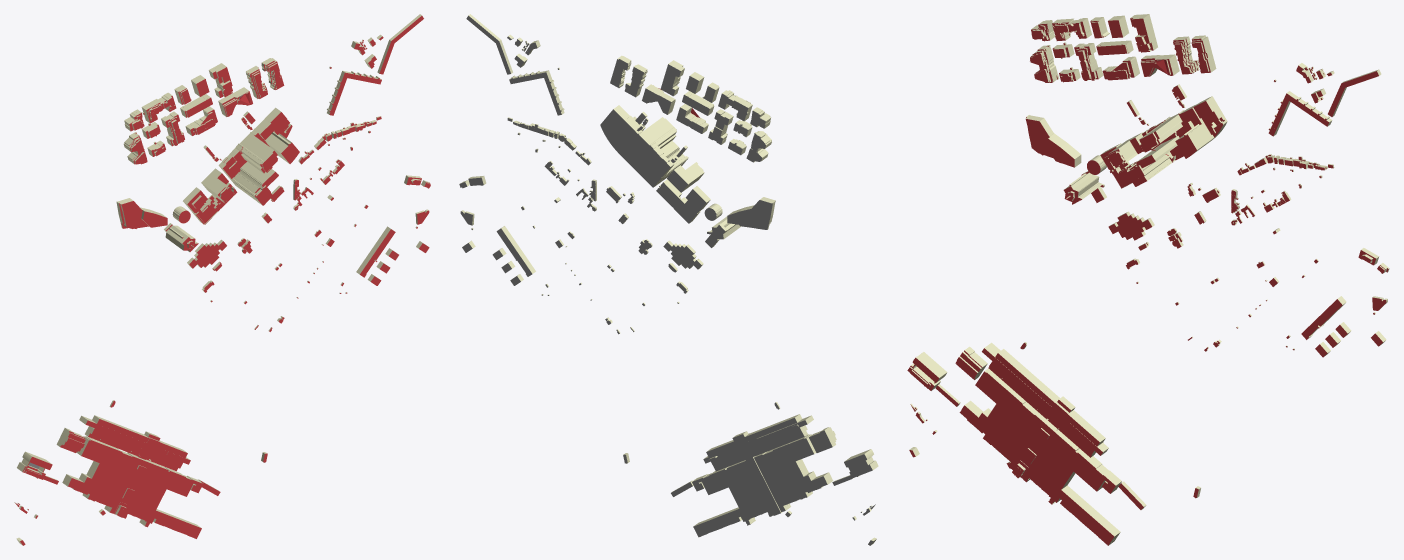
3 renders of one model, left to right at view 1: azimuth 30°, elevation 25°; view 2: azimuth 150°, elevation 25°; view 3: azimuth 330°, elevation 25°, orthographic. The views are drawn at different scales.
Parts seen in each view (by area): view 1: NL.IMBAG.Pand.0363100012185598-19, NL.IMBAG.Pand.0363100012247366-101, NL.IMBAG.Pand.0363100012242112-16, NL.IMBAG.Pand.0363100012237838-25, NL.IMBAG.Pand.0363100012112766-24, NL.IMBAG.Pand.0363100012250610-98, NL.IMBAG.Pand.0363100012240311-17, NL.IMBAG.Pand.0363100012245546-35, NL.IMBAG.Pand.0363100012119827-28, NL.IMBAG.Pand.0363100012178504-7, NL.IMBAG.Pand.0363100012098377-61, NL.IMBAG.Pand.0363100012252987-110 (+4 smaller); view 2: NL.IMBAG.Pand.0363100012185598-19, NL.IMBAG.Pand.0363100012247366-101, NL.IMBAG.Pand.0363100012242112-16, NL.IMBAG.Pand.0363100012112766-24, NL.IMBAG.Pand.0363100012240311-17, NL.IMBAG.Pand.0363100012237838-25, NL.IMBAG.Pand.0363100012245546-35, NL.IMBAG.Pand.0363100012119827-28, NL.IMBAG.Pand.0363100012178504-7, NL.IMBAG.Pand.0363100012098377-61, NL.IMBAG.Pand.0363100012250610-98, NL.IMBAG.Pand.0363100012252987-111 (+4 smaller); view 3: NL.IMBAG.Pand.0363100012185598-19, NL.IMBAG.Pand.0363100012242112-16, NL.IMBAG.Pand.0363100012247366-101, NL.IMBAG.Pand.0363100012237838-25, NL.IMBAG.Pand.0363100012240311-17, NL.IMBAG.Pand.0363100012250610-98, NL.IMBAG.Pand.0363100012071204-26, NL.IMBAG.Pand.0363100012178504-7, NL.IMBAG.Pand.0363100012119827-28, NL.IMBAG.Pand.0363100012249044-97, NL.IMBAG.Pand.0363100012252987-111, NL.IMBAG.Pand.0363100012252987-110 (+5 smaller).
Part boxes in pixels (bbox=[...]): NL.IMBAG.Pand.0363100012185598-19: bbox=[62, 436, 203, 538]; NL.IMBAG.Pand.0363100012247366-101: bbox=[218, 130, 278, 205]; NL.IMBAG.Pand.0363100012242112-16: bbox=[85, 415, 187, 471]; NL.IMBAG.Pand.0363100012237838-25: bbox=[116, 198, 167, 228]; NL.IMBAG.Pand.0363100012112766-24: bbox=[183, 182, 237, 224]; NL.IMBAG.Pand.0363100012250610-98: bbox=[254, 119, 299, 163]; NL.IMBAG.Pand.0363100012240311-17: bbox=[114, 431, 167, 517]; NL.IMBAG.Pand.0363100012245546-35: bbox=[201, 168, 235, 203]; NL.IMBAG.Pand.0363100012119827-28: bbox=[187, 239, 226, 268]; NL.IMBAG.Pand.0363100012178504-7: bbox=[17, 451, 52, 479]; NL.IMBAG.Pand.0363100012098377-61: bbox=[356, 226, 395, 277]; NL.IMBAG.Pand.0363100012252987-110: bbox=[218, 87, 252, 116]; NL.IMBAG.Pand.0363100012185598-19: bbox=[692, 434, 833, 537]; NL.IMBAG.Pand.0363100012247366-101: bbox=[618, 117, 688, 187]; NL.IMBAG.Pand.0363100012242112-16: bbox=[706, 414, 807, 471]; NL.IMBAG.Pand.0363100012112766-24: bbox=[656, 179, 710, 223]; NL.IMBAG.Pand.0363100012240311-17: bbox=[726, 431, 782, 515]; NL.IMBAG.Pand.0363100012237838-25: bbox=[727, 197, 775, 229]; NL.IMBAG.Pand.0363100012245546-35: bbox=[667, 162, 704, 192]; NL.IMBAG.Pand.0363100012119827-28: bbox=[663, 240, 703, 269]; NL.IMBAG.Pand.0363100012178504-7: bbox=[844, 449, 878, 478]; NL.IMBAG.Pand.0363100012098377-61: bbox=[496, 226, 535, 276]; NL.IMBAG.Pand.0363100012250610-98: bbox=[608, 115, 645, 151]; NL.IMBAG.Pand.0363100012252987-111: bbox=[660, 60, 684, 96]; NL.IMBAG.Pand.0363100012185598-19: bbox=[959, 368, 1121, 545]; NL.IMBAG.Pand.0363100012242112-16: bbox=[988, 349, 1105, 457]; NL.IMBAG.Pand.0363100012247366-101: bbox=[1126, 110, 1191, 186]; NL.IMBAG.Pand.0363100012237838-25: bbox=[1025, 115, 1081, 167]; NL.IMBAG.Pand.0363100012240311-17: bbox=[1012, 396, 1076, 478]; NL.IMBAG.Pand.0363100012250610-98: bbox=[1175, 104, 1217, 158]; NL.IMBAG.Pand.0363100012071204-26: bbox=[1063, 171, 1106, 204]; NL.IMBAG.Pand.0363100012178504-7: bbox=[907, 352, 947, 390]; NL.IMBAG.Pand.0363100012119827-28: bbox=[1108, 211, 1154, 240]; NL.IMBAG.Pand.0363100012249044-97: bbox=[1193, 96, 1227, 137]; NL.IMBAG.Pand.0363100012252987-111: bbox=[1130, 14, 1157, 52]; NL.IMBAG.Pand.0363100012252987-110: bbox=[1141, 54, 1179, 76].
Bounding box in the file's own units: 1009 × 1081 × 123.
